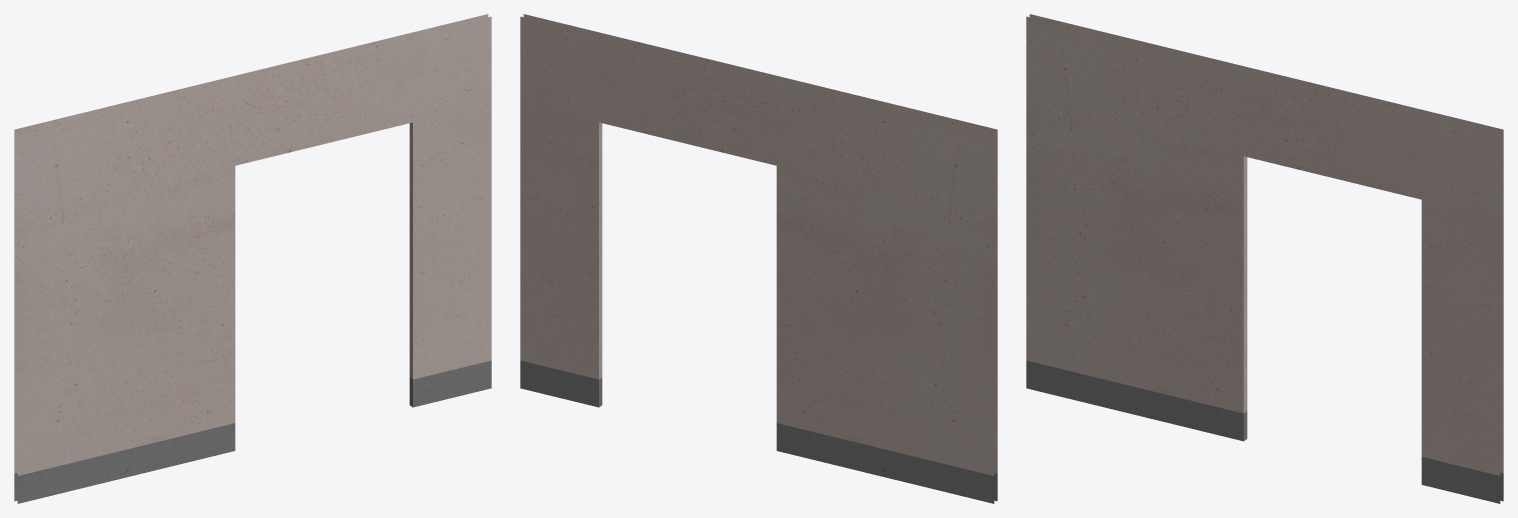
The model's file is wall with door_1A.FBX.
3 renders of one model, left to right at view 1: azimuth 30°, elevation 25°; view 2: azimuth 150°, elevation 25°; view 3: azimuth 330°, elevation 25°, orthographic.
Visible parts, largest first — view 1: wall with door_1A; view 2: wall with door_1A; view 3: wall with door_1A.
Part boxes in pixels (left/top/right/bottom): wall with door_1A: left=14, top=14, right=491, bottom=503; wall with door_1A: left=520, top=14, right=997, bottom=503; wall with door_1A: left=1026, top=14, right=1503, bottom=503.
Size of the model in its own units: 40 by 30 by 0.5.
